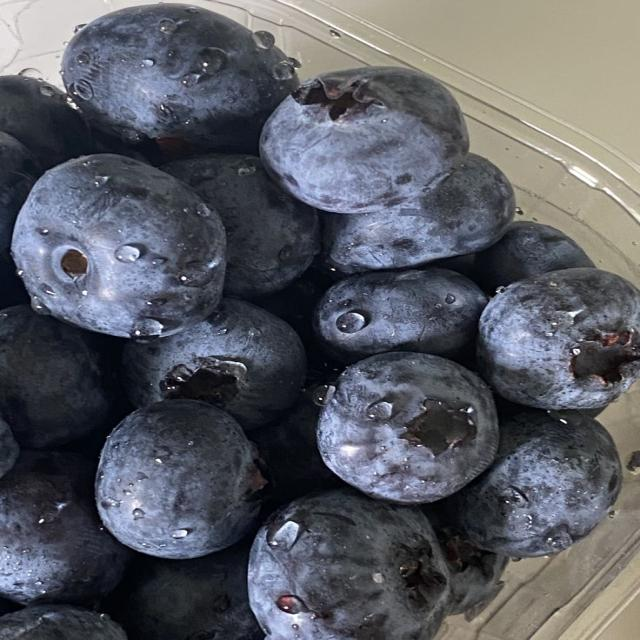blueberry: (13, 154, 225, 338), (62, 4, 298, 150), (260, 67, 468, 213), (249, 490, 450, 639), (96, 400, 266, 559), (318, 353, 498, 503), (442, 410, 621, 557), (123, 299, 306, 429), (321, 154, 515, 273), (478, 268, 639, 409), (163, 154, 319, 298), (0, 451, 129, 604), (314, 267, 486, 362), (0, 305, 113, 448), (107, 543, 263, 639), (250, 395, 343, 503), (426, 503, 508, 616), (0, 76, 94, 168), (254, 265, 335, 369), (475, 222, 594, 292), (0, 132, 40, 306), (0, 605, 126, 639), (432, 253, 476, 282), (0, 419, 19, 477), (494, 395, 530, 421), (0, 598, 21, 617)
